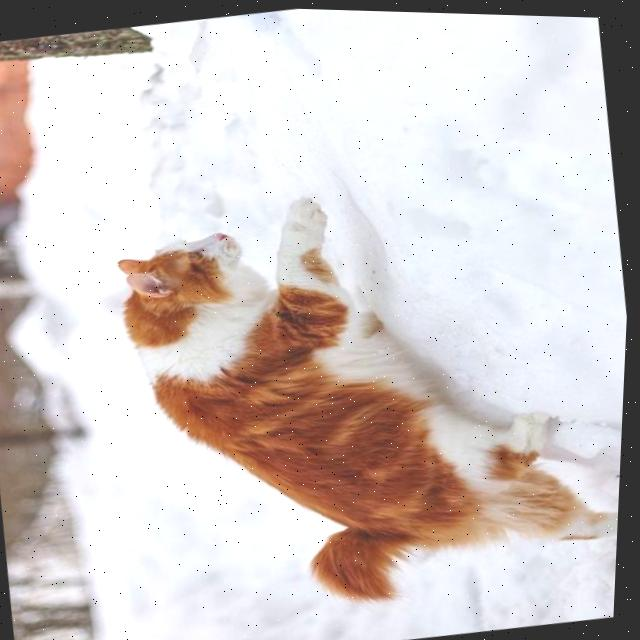American Bobtail: (93, 143, 635, 640)
